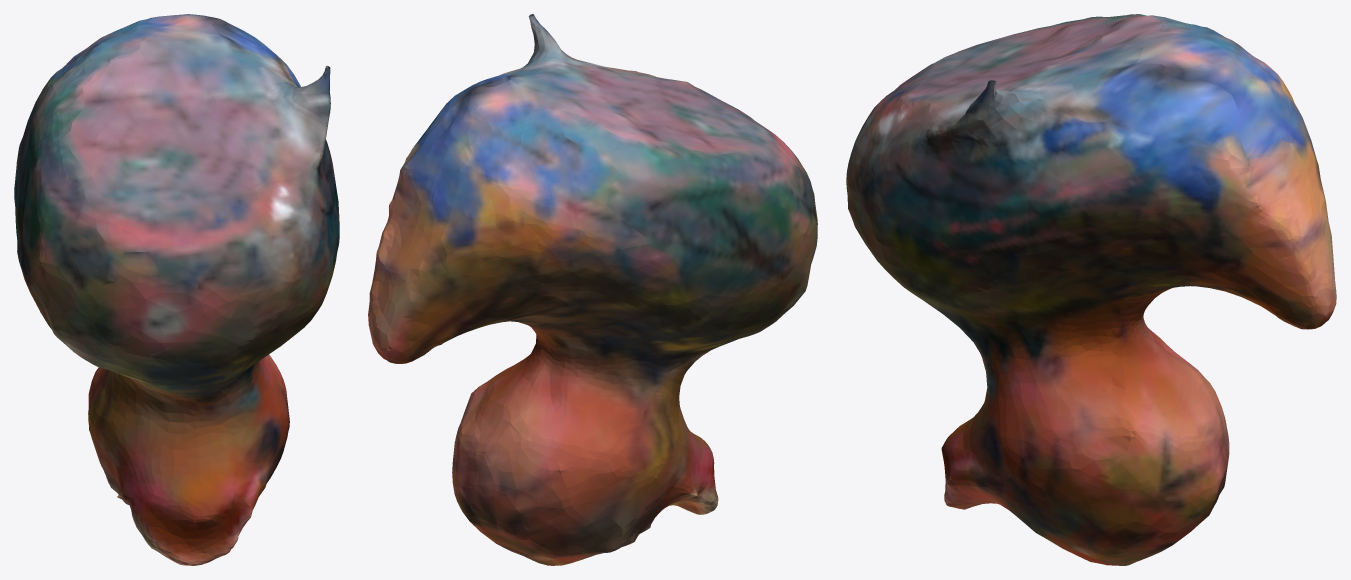
The model's file is duck.obj.
The picture shows the model from 3 angles, left to right: view 1: azimuth 30°, elevation 25°; view 2: azimuth 150°, elevation 25°; view 3: azimuth 270°, elevation 25°; orthographic projection. The views are drawn at different scales.
Parts seen in each view (by area): view 1: mesh; view 2: mesh; view 3: mesh.
Boxes of the visible parts, x1,y1,x2,y2 form: mesh: [14, 14, 339, 565]; mesh: [368, 14, 817, 565]; mesh: [846, 14, 1336, 565].
Size of the model in its own units: 0.0686 by 0.1003 by 0.085.
Materials: 1 (1 with a texture image).
